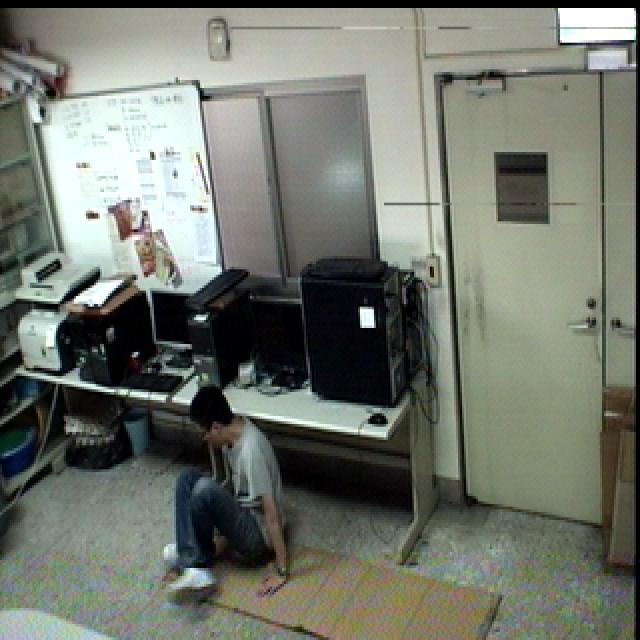sit: (156, 376, 296, 608)
